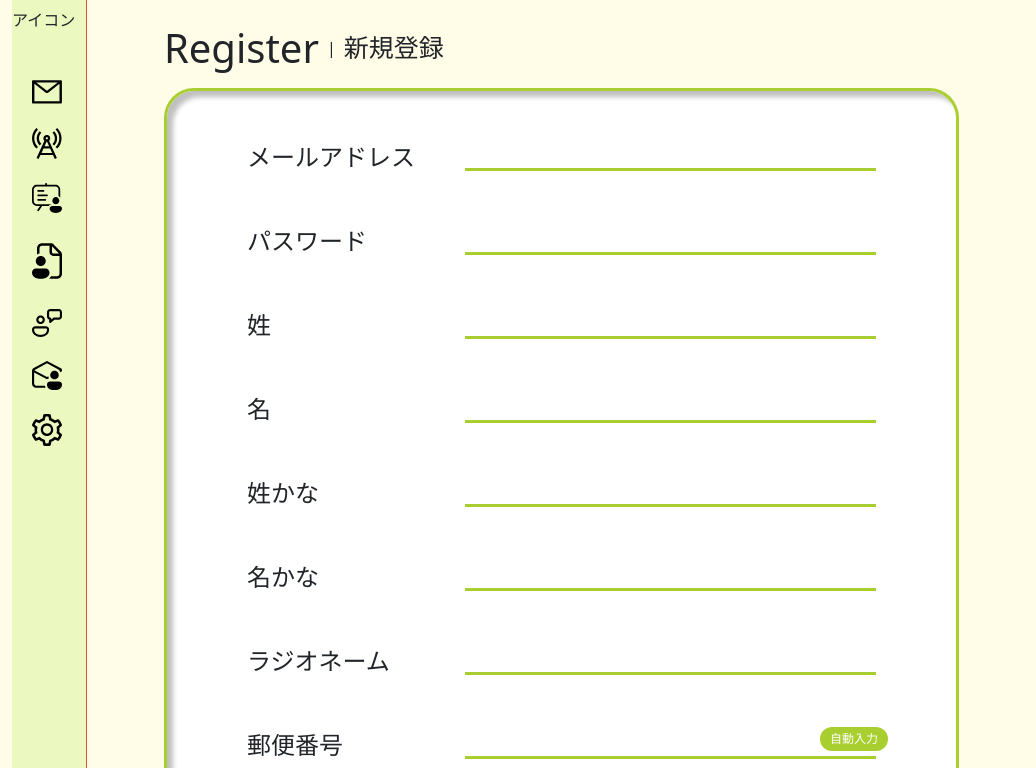
Test case: 新規登録 › メールアドレスを入れないとバリデーションメッセージが表示される
In the password field with test id "register-input-password": (670, 241) [465, 227, 876, 255], type "passwordpassword"
(page scrolled)
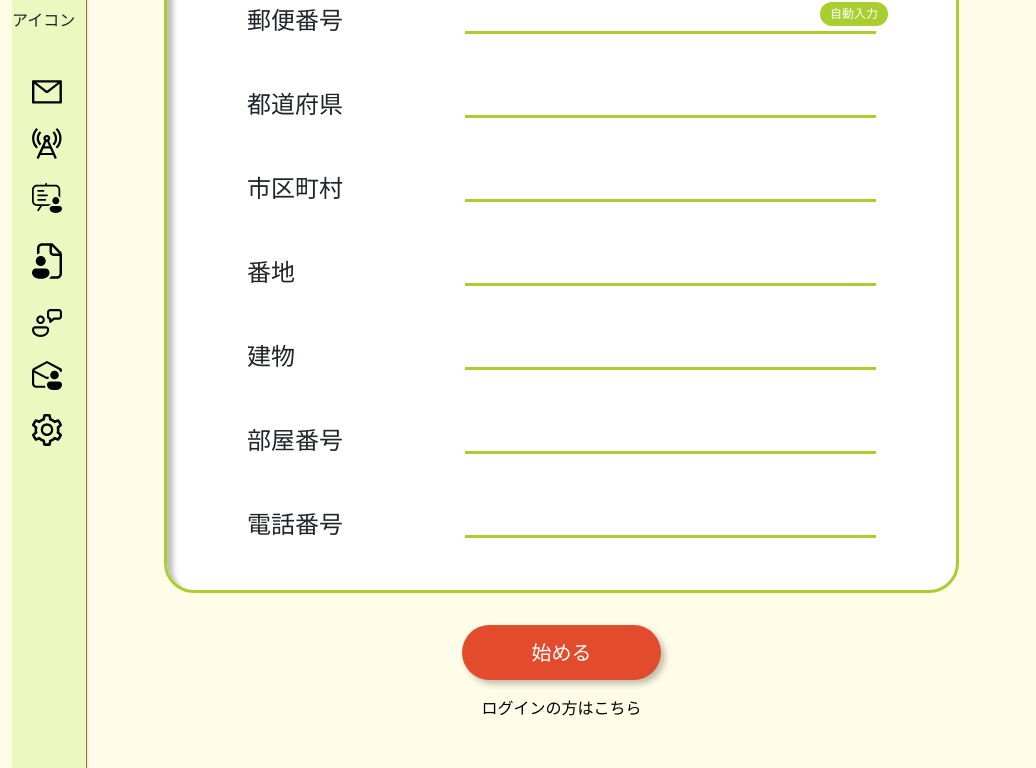
Click the button with test id "register-button": (562, 652) [462, 625, 661, 680]
(page scrolled)
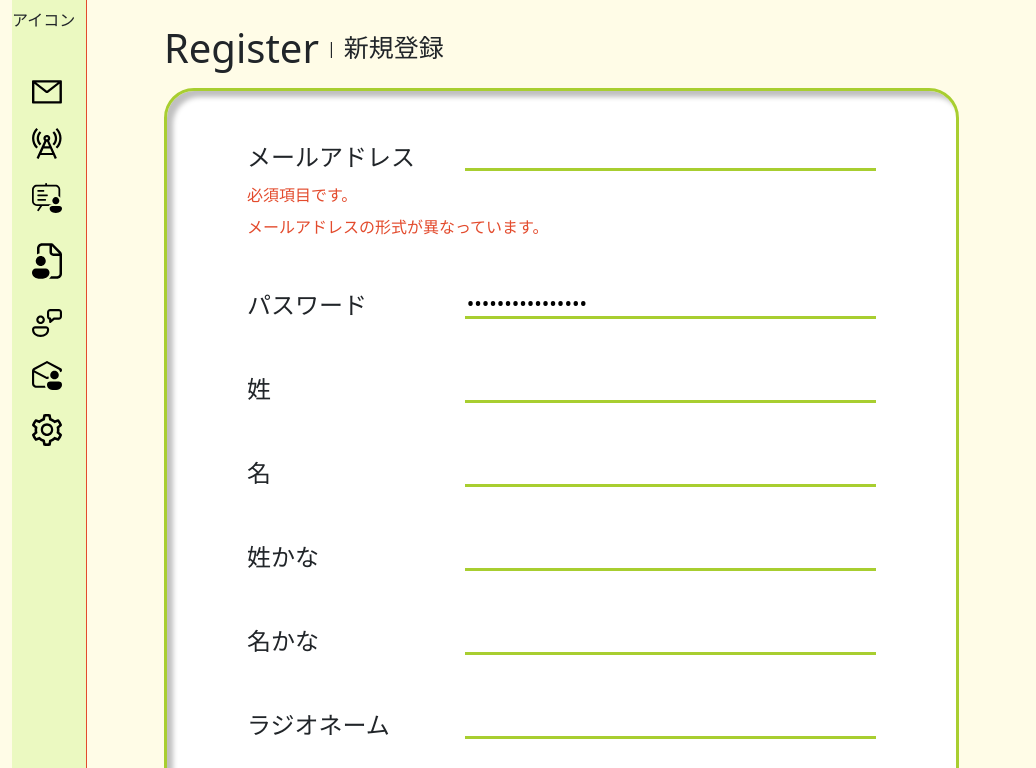
expect the text "必須項目です。" is shown: met, box [247, 184, 357, 206]
